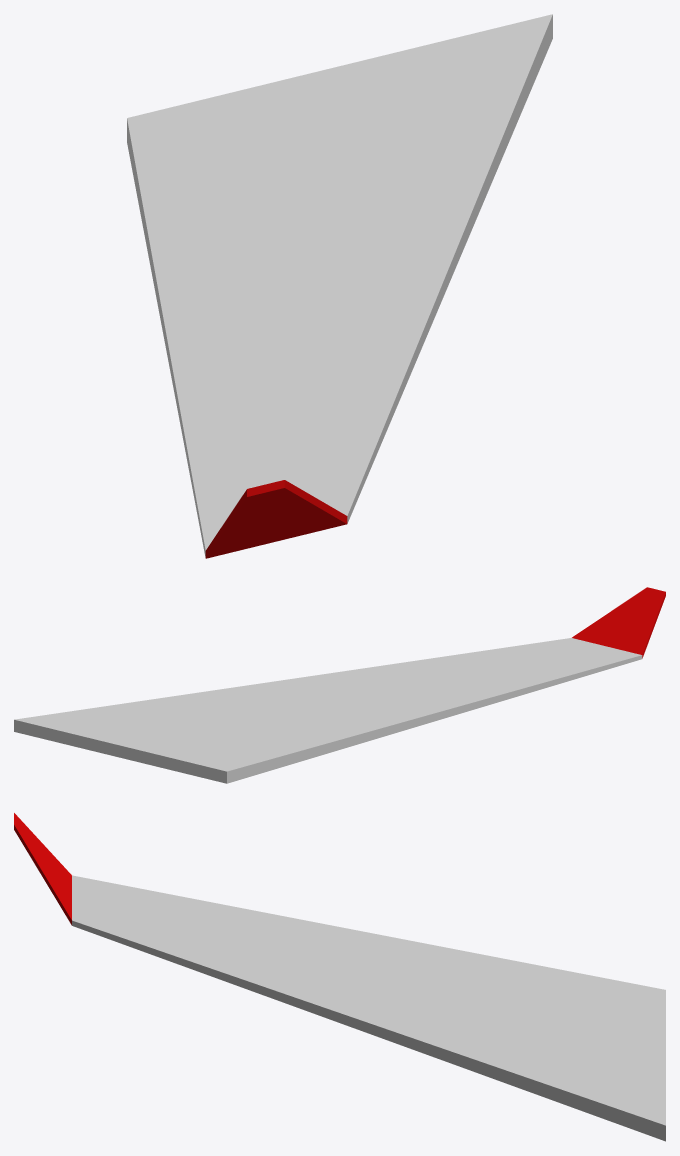
The model's file is plane_wing_right.fbx.
The picture shows the model from 3 angles, top to bottom: view 1: azimuth 30°, elevation 25°; view 2: azimuth 150°, elevation 25°; view 3: azimuth 270°, elevation 25°; orthographic projection. The views are drawn at different scales.
Visible parts, largest first — view 1: Plane_Wing; view 2: Plane_Wing; view 3: Plane_Wing.
Part boxes in pixels (x1,y1,x2,y2): Plane_Wing: (127, 14, 552, 558); Plane_Wing: (14, 587, 665, 783); Plane_Wing: (14, 813, 665, 1141).
Bounding box in the file's own units: 12.83 × 1.69 × 13.78.
